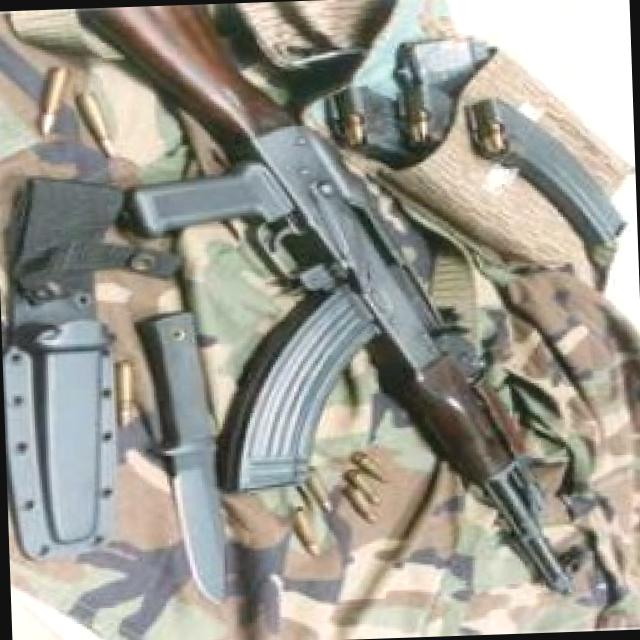long weapon: (104, 8, 534, 626)
